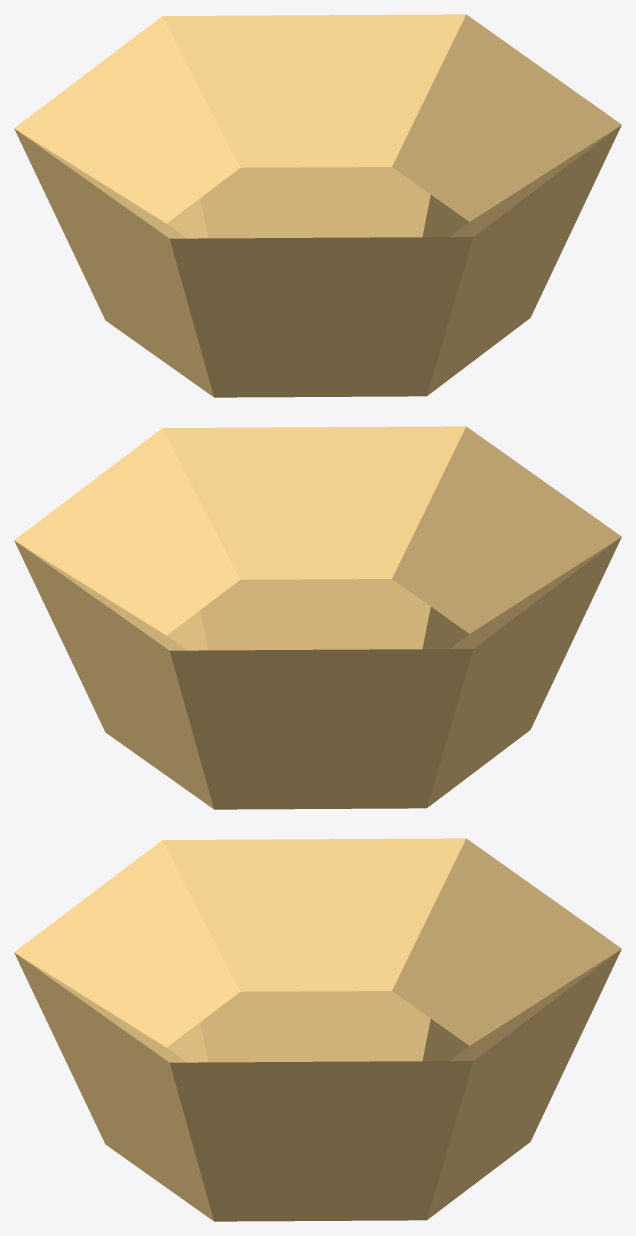
The model's file is flower-out.glb.
3 views of the same model, one above another, from view 1: azimuth 30°, elevation 25°; view 2: azimuth 150°, elevation 25°; view 3: azimuth 270°, elevation 25° (orthographic).
Parts seen in each view (by area): view 1: flower_yellowC.019; view 2: flower_yellowC.019; view 3: flower_yellowC.019.
Boxes of the visible parts, box(x1,y1,x2,y2) form: flower_yellowC.019: box(14, 14, 621, 397); flower_yellowC.019: box(14, 426, 621, 809); flower_yellowC.019: box(14, 838, 621, 1221).
Bounding box in the file's own units: 0.1041 × 0.0417 × 0.1193.
